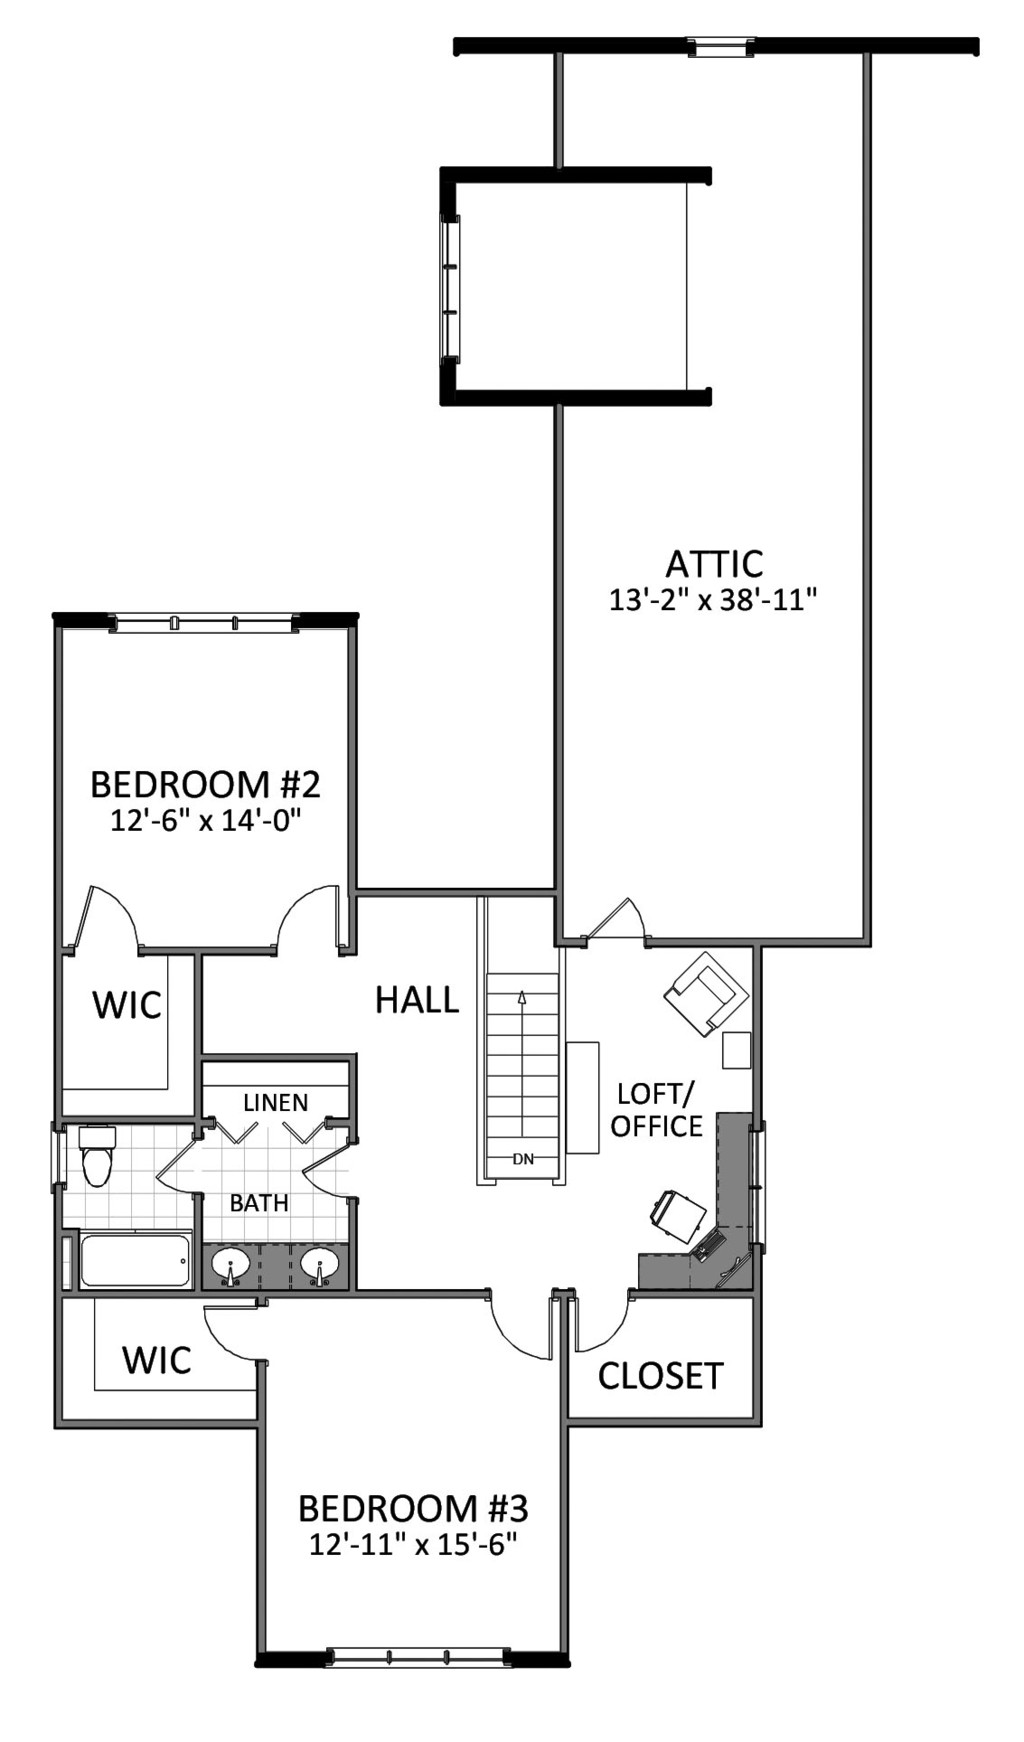door: (263, 866, 367, 969), (41, 872, 154, 963), (483, 1274, 557, 1363), (553, 892, 661, 947), (154, 1130, 228, 1200), (575, 1278, 634, 1360), (285, 1139, 364, 1200), (207, 1293, 269, 1367)
large_sink: (79, 1123, 121, 1203)
small_sink: (197, 1234, 350, 1292)
stairs: (477, 905, 607, 1187)
tub: (80, 1229, 205, 1293)
window: (425, 215, 479, 361), (325, 1638, 519, 1677), (99, 605, 301, 640), (688, 38, 766, 69)
